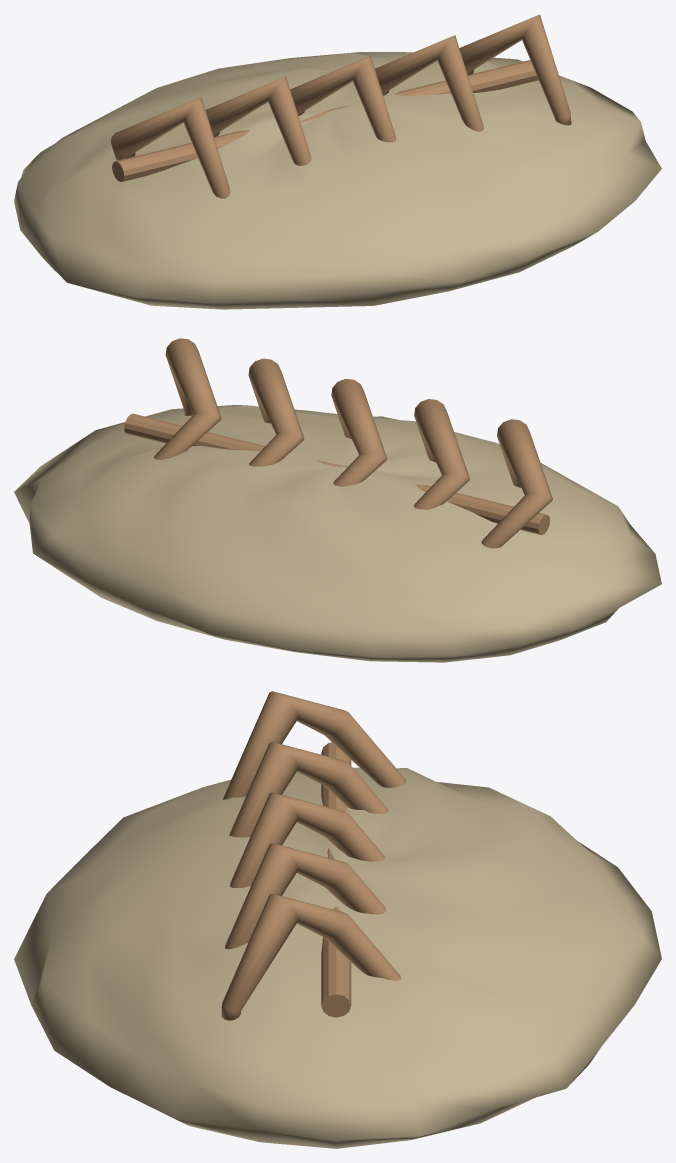
File: mangrove_islet_bank_tropical_island_and_palm_trees_6814.glb
3 renders of one model, top to bottom at view 1: azimuth 30°, elevation 25°; view 2: azimuth 150°, elevation 25°; view 3: azimuth 270°, elevation 25°, orthographic. The views are drawn at different scales.
Parts seen in each view (by area): view 1: mangrove-islet; view 2: mangrove-islet; view 3: mangrove-islet.
Boxes of the visible parts, x1,y1,x2,y2 form: mangrove-islet: [14, 14, 661, 309]; mangrove-islet: [14, 338, 661, 662]; mangrove-islet: [14, 691, 661, 1148].
Bounding box in the file's own units: 3.97 × 1.02 × 3.03.
